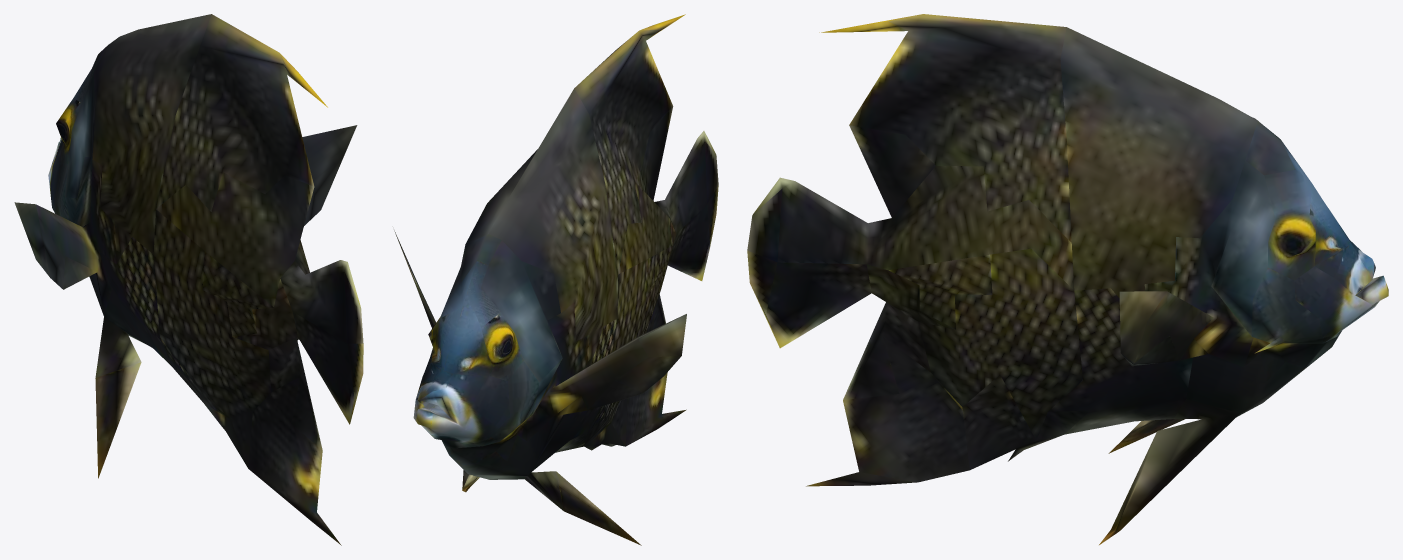
Rendered from franse_keizer-ver.glb.
3 renders of one model, left to right at view 1: azimuth 30°, elevation 25°; view 2: azimuth 150°, elevation 25°; view 3: azimuth 270°, elevation 25°, orthographic. The views are drawn at different scales.
Parts seen in each view (by area): view 1: tripo_node_dd919727-ab7f-4aa8-abb9-3b0ecdbdae93; view 2: tripo_node_dd919727-ab7f-4aa8-abb9-3b0ecdbdae93; view 3: tripo_node_dd919727-ab7f-4aa8-abb9-3b0ecdbdae93.
Boxes of the visible parts, <box> form: tripo_node_dd919727-ab7f-4aa8-abb9-3b0ecdbdae93: <box>14,14,363,545</box>; tripo_node_dd919727-ab7f-4aa8-abb9-3b0ecdbdae93: <box>394,14,718,545</box>; tripo_node_dd919727-ab7f-4aa8-abb9-3b0ecdbdae93: <box>747,14,1388,544</box>.
Bounding box in the file's own units: 0.2143 × 0.2905 × 0.3469.
1 material, 1 textured.
